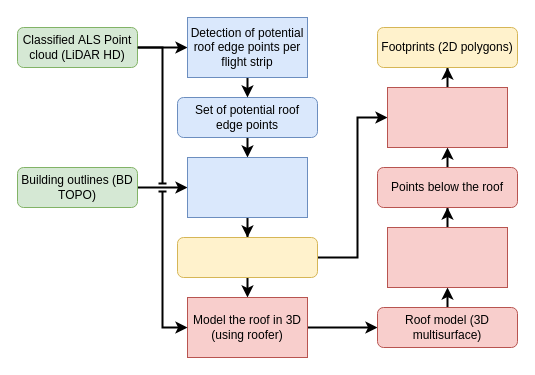
Some shapes in this 535 by 375 pixel diagram are drawn without their labels. Here are the shapes that lost their labels. From the top down, the box of each, then its label:
(386, 86, 508, 148): Match 2D roofprints edges to detected points (perpendicular sweeping)
(186, 156, 308, 218): Match initial edges to roof edge points in 2D (perpendicular sweeping)
(176, 236, 318, 278): Roofprints (2D polygons)
(386, 226, 508, 288): Extract points on façades and on the ground below the roof
